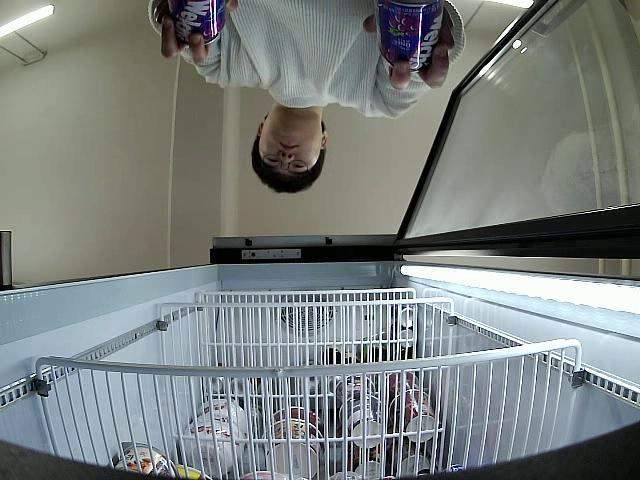14_welchsGrape: (372, 0, 443, 70), (162, 0, 224, 44)
